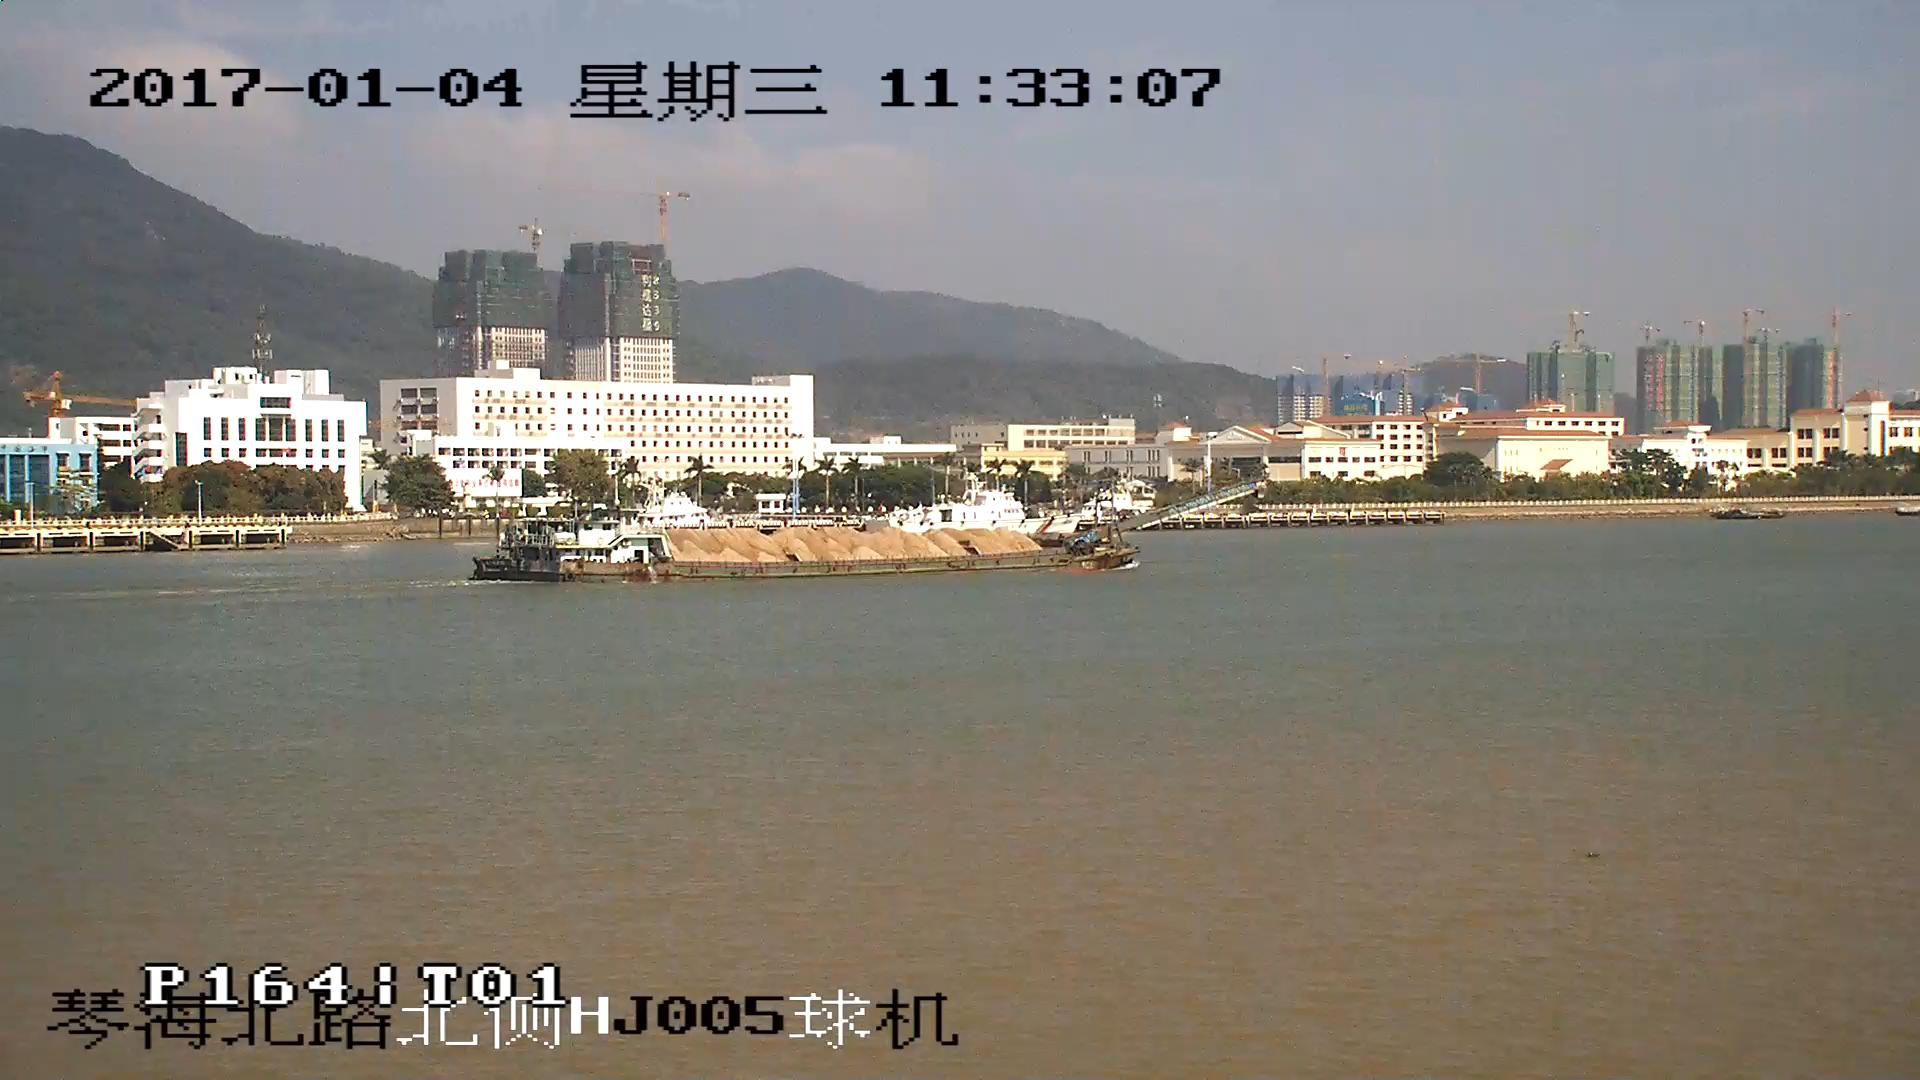ore carrier: (469, 478, 1258, 586)
